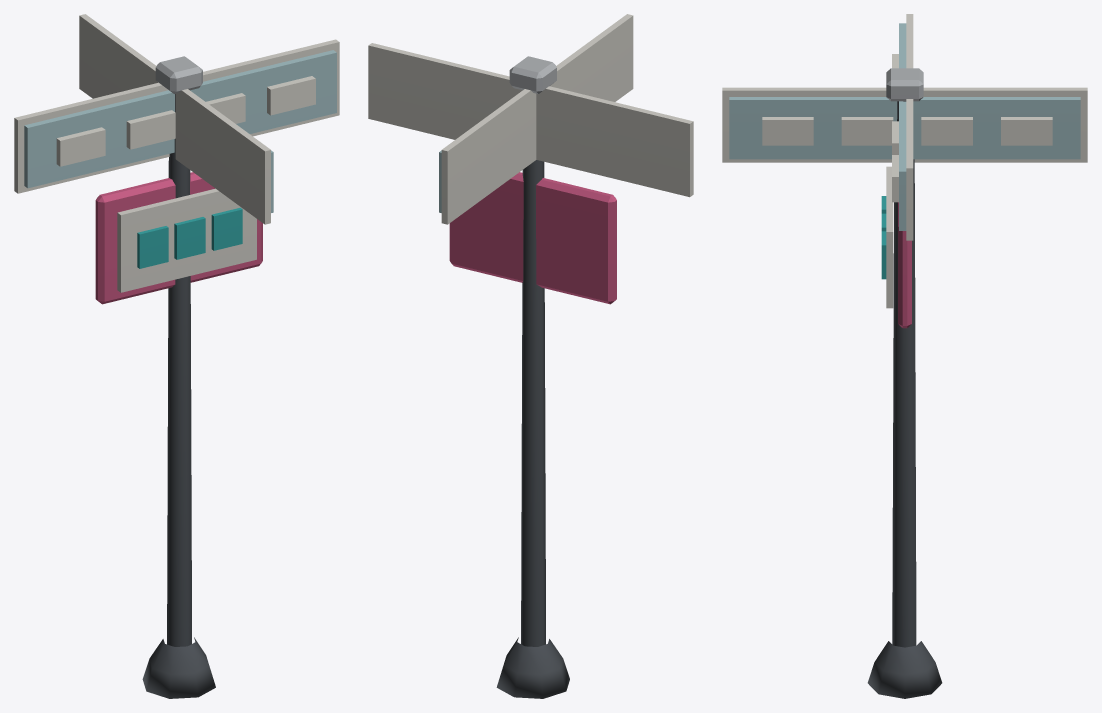
The model's file is street-name-blade.glb.
3 views of the same model, side by side, from view 1: azimuth 30°, elevation 25°; view 2: azimuth 150°, elevation 25°; view 3: azimuth 270°, elevation 25° (orthographic).
Visible parts, largest first — view 1: street_name_blade; view 2: street_name_blade; view 3: street_name_blade.
Part boxes in pixels (x1,y1,x2,y2): street_name_blade: (14, 14, 339, 698); street_name_blade: (368, 14, 693, 698); street_name_blade: (722, 14, 1087, 698).
Bounding box in the file's own units: 1.56 × 2.87 × 1.56.
